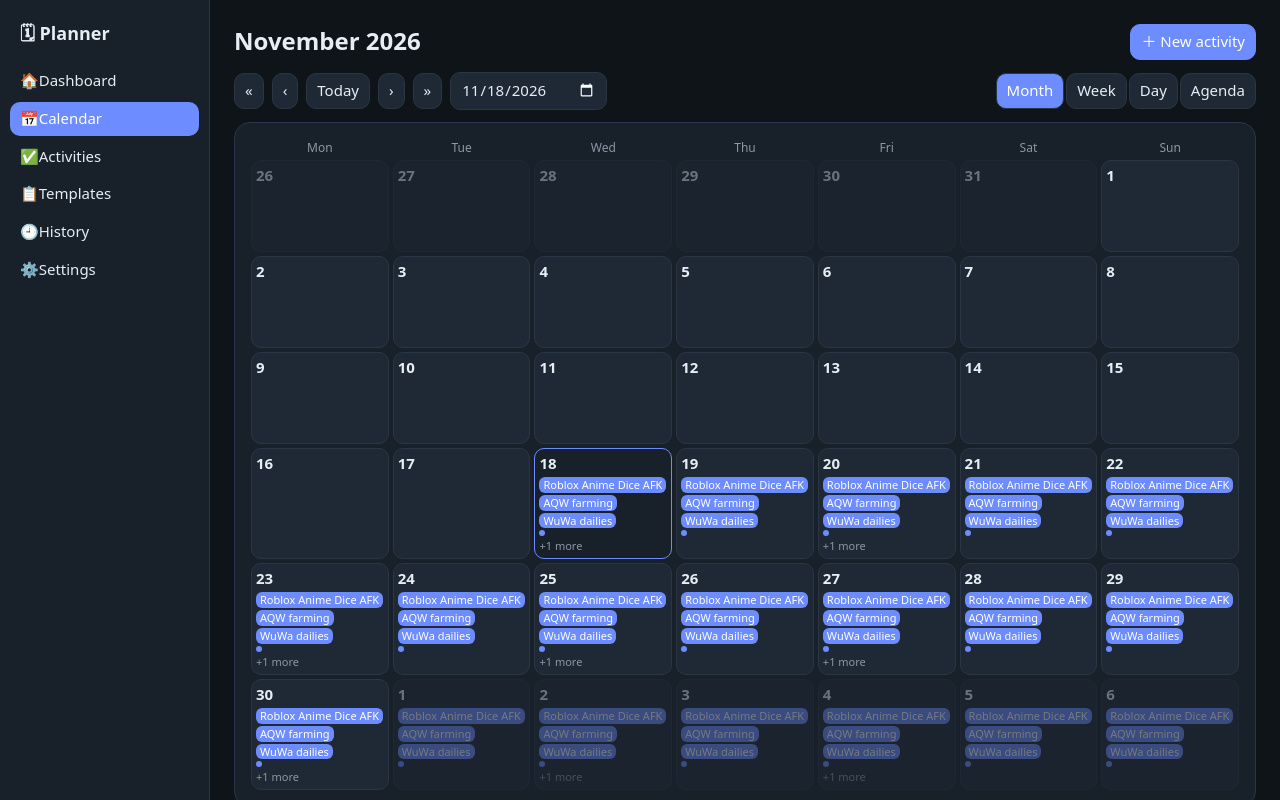
Test: app end to end (simulated browser, real components, real storage layer) › plans Nov 24/25 2026, edits, completes, reorders, and survives close/reopen
The width and height of the screenshot is (1280, 800).
Earlier steps of the test are not shown.
Later steps or results of the test are not shown.
Type "2026-11-24" into the date field named "Jump to date" at point(529, 91), box 450,72 -> 607,110
Click the button "Day" at point(1153, 91), box 1129,73 -> 1178,109
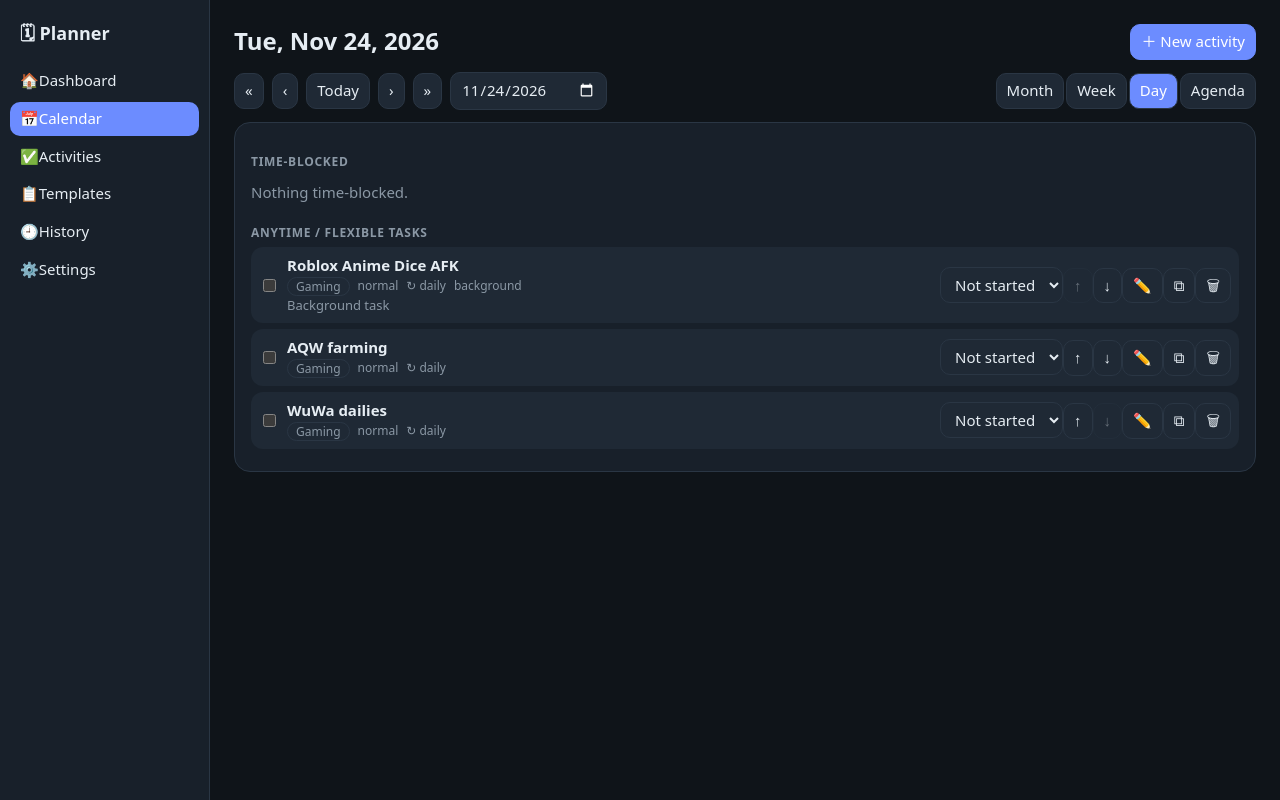
Click the button "＋ New activity" at point(1193, 42), box 1130,24 -> 1256,60
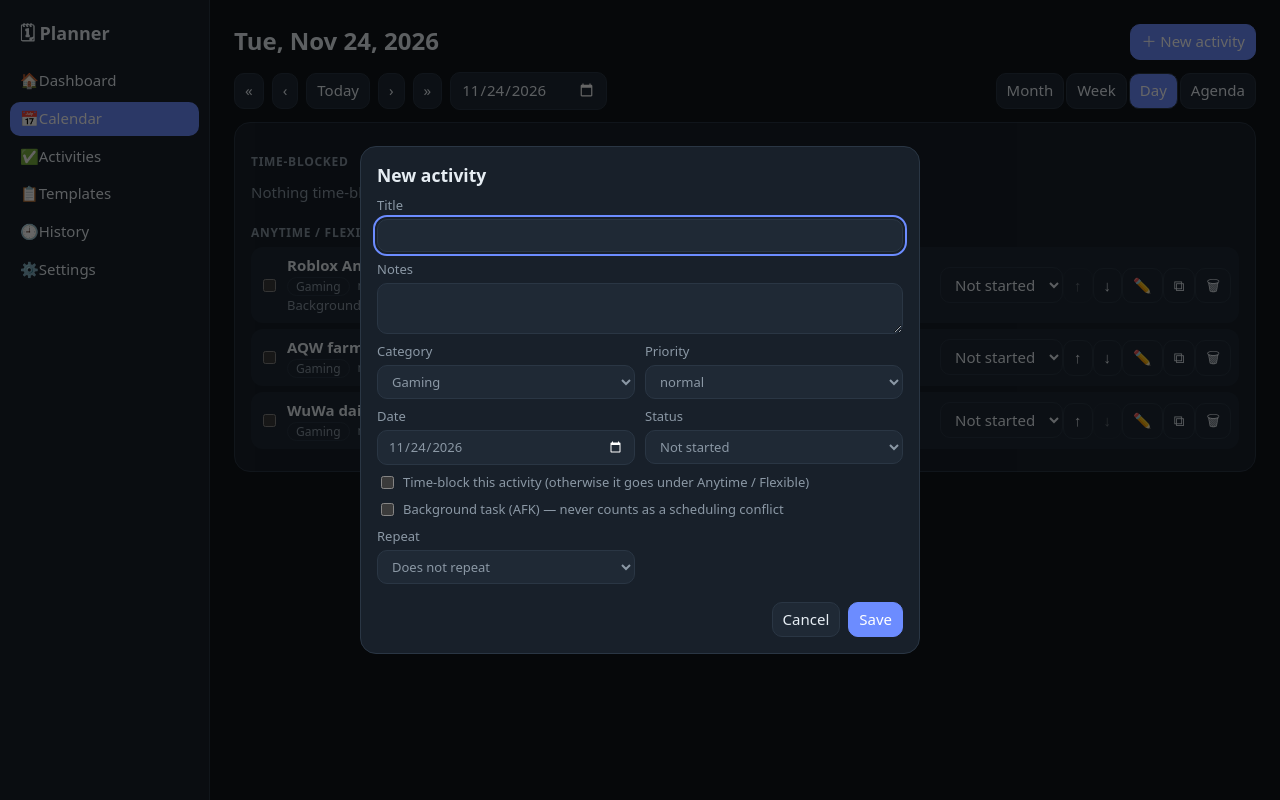
Type "Alpha" into the field labelled "Title" at point(640, 235), box 377,219 -> 903,252
Click the button "Save" at point(876, 620), box 848,602 -> 903,637
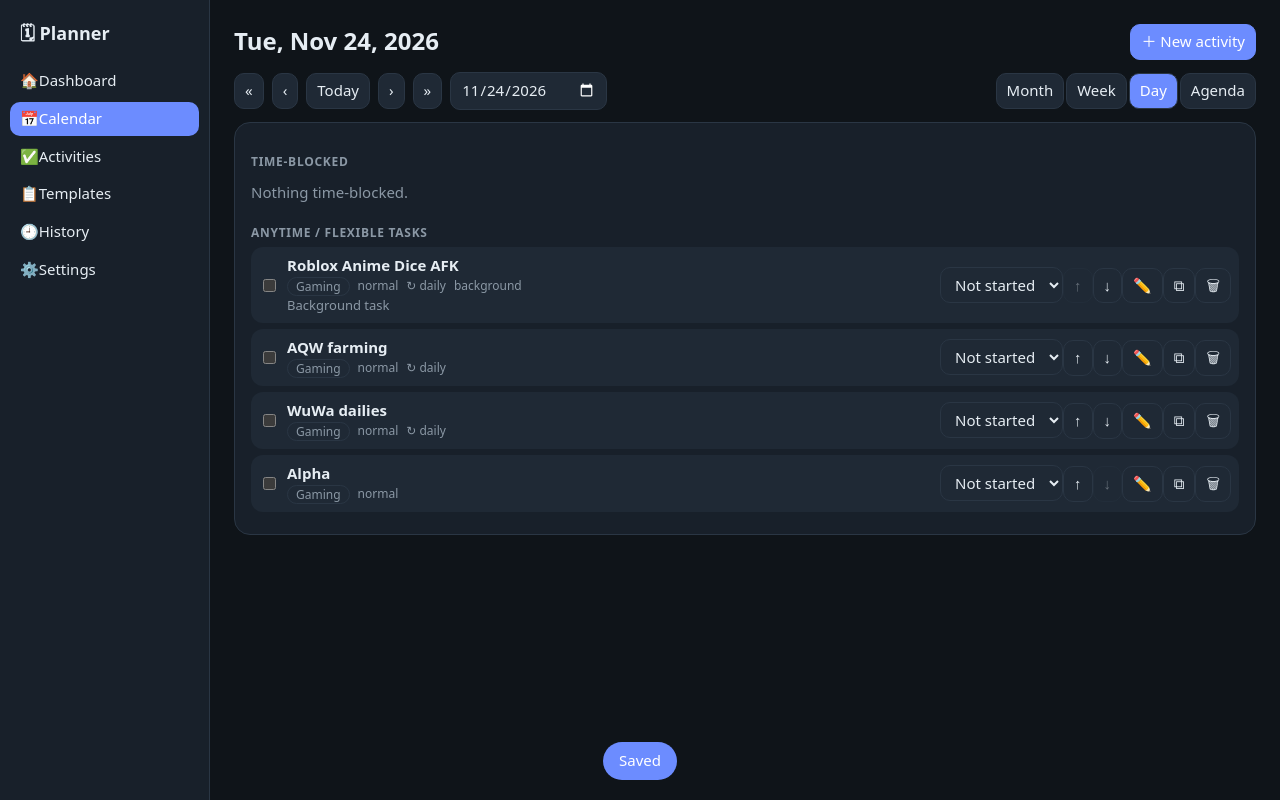
Check: the dialog is gone
Click the button "＋ New activity" at point(1193, 42), box 1130,24 -> 1256,60
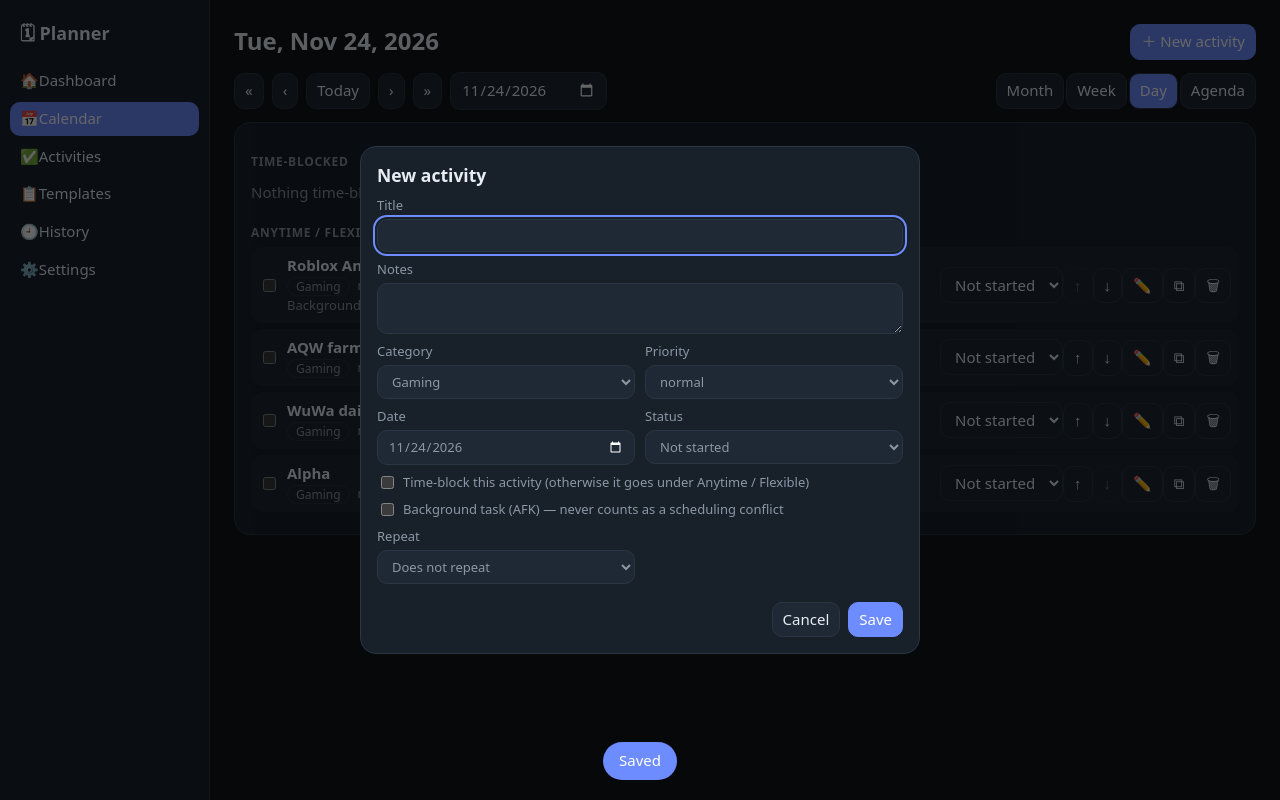
Type "Beta" into the field labelled "Title" at point(640, 235), box 377,219 -> 903,252
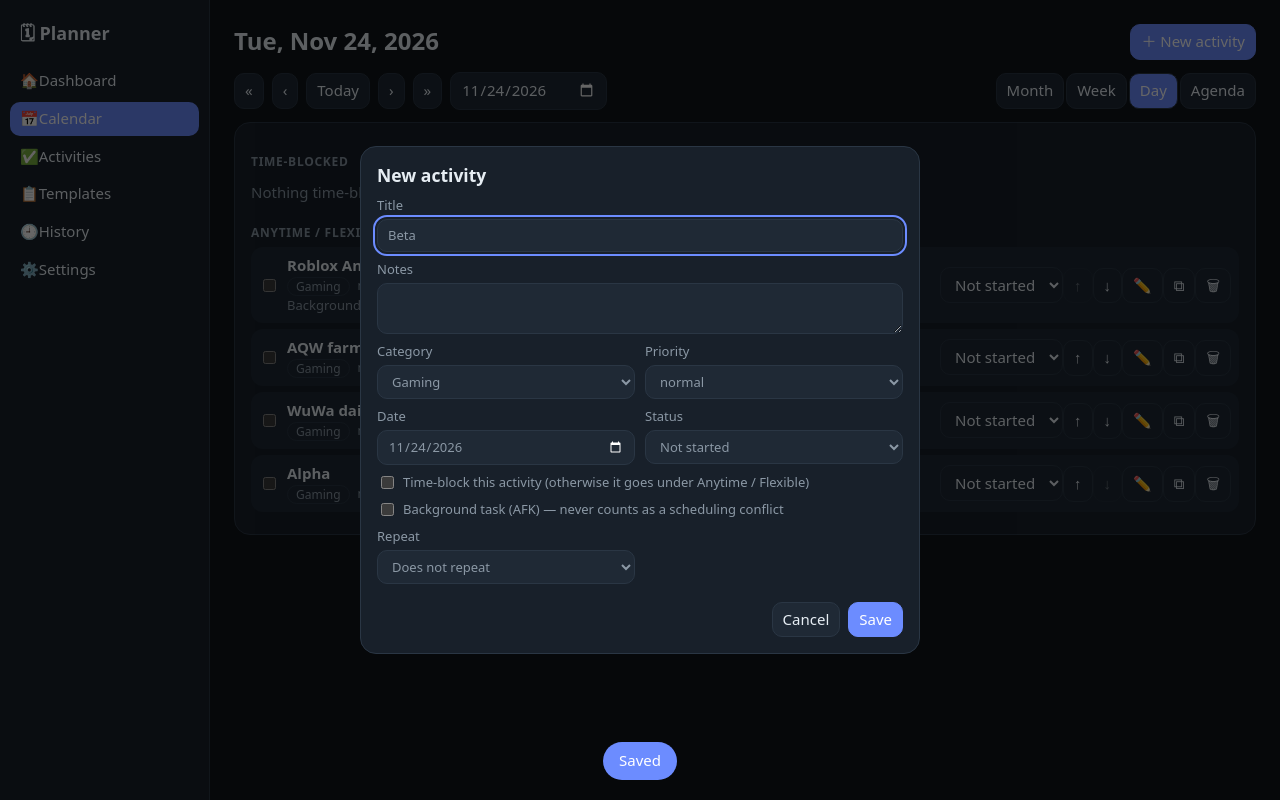
Click the button "Save" at point(876, 620), box 848,602 -> 903,637
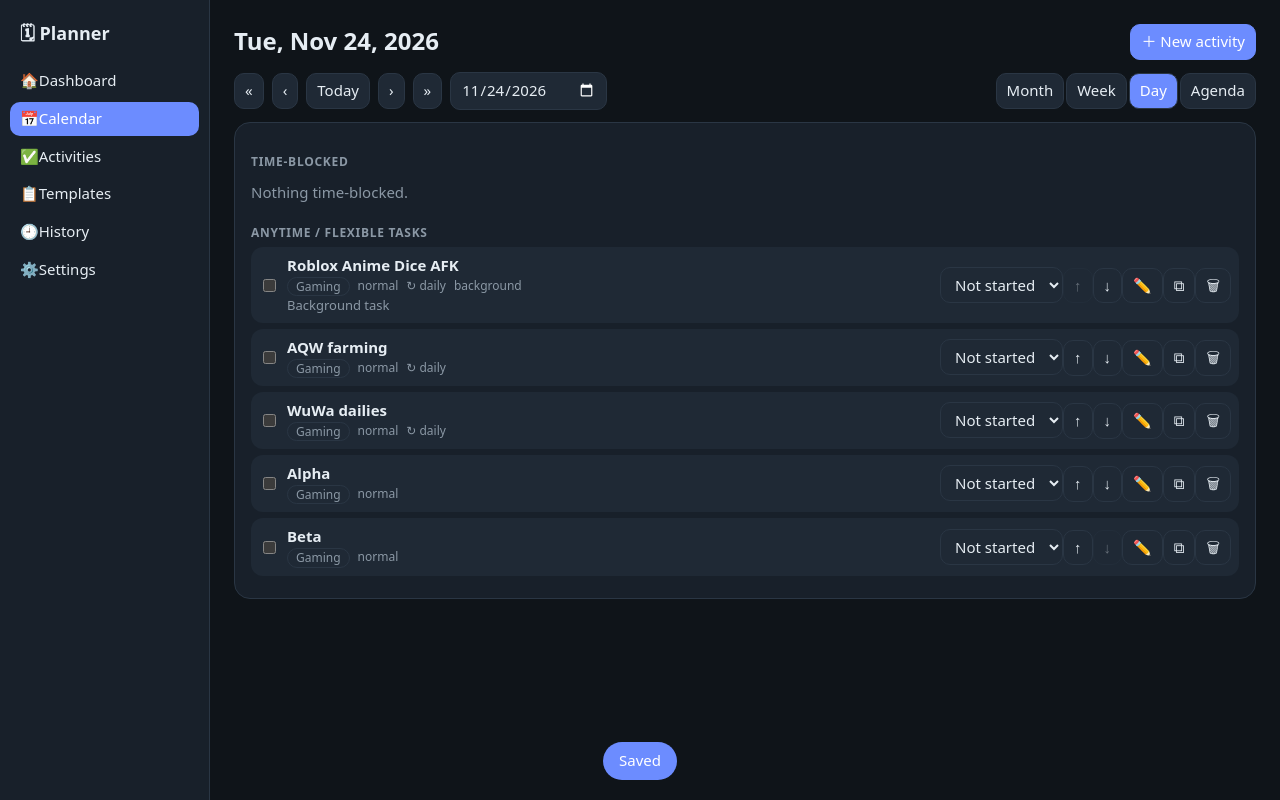
Check: the dialog is gone
